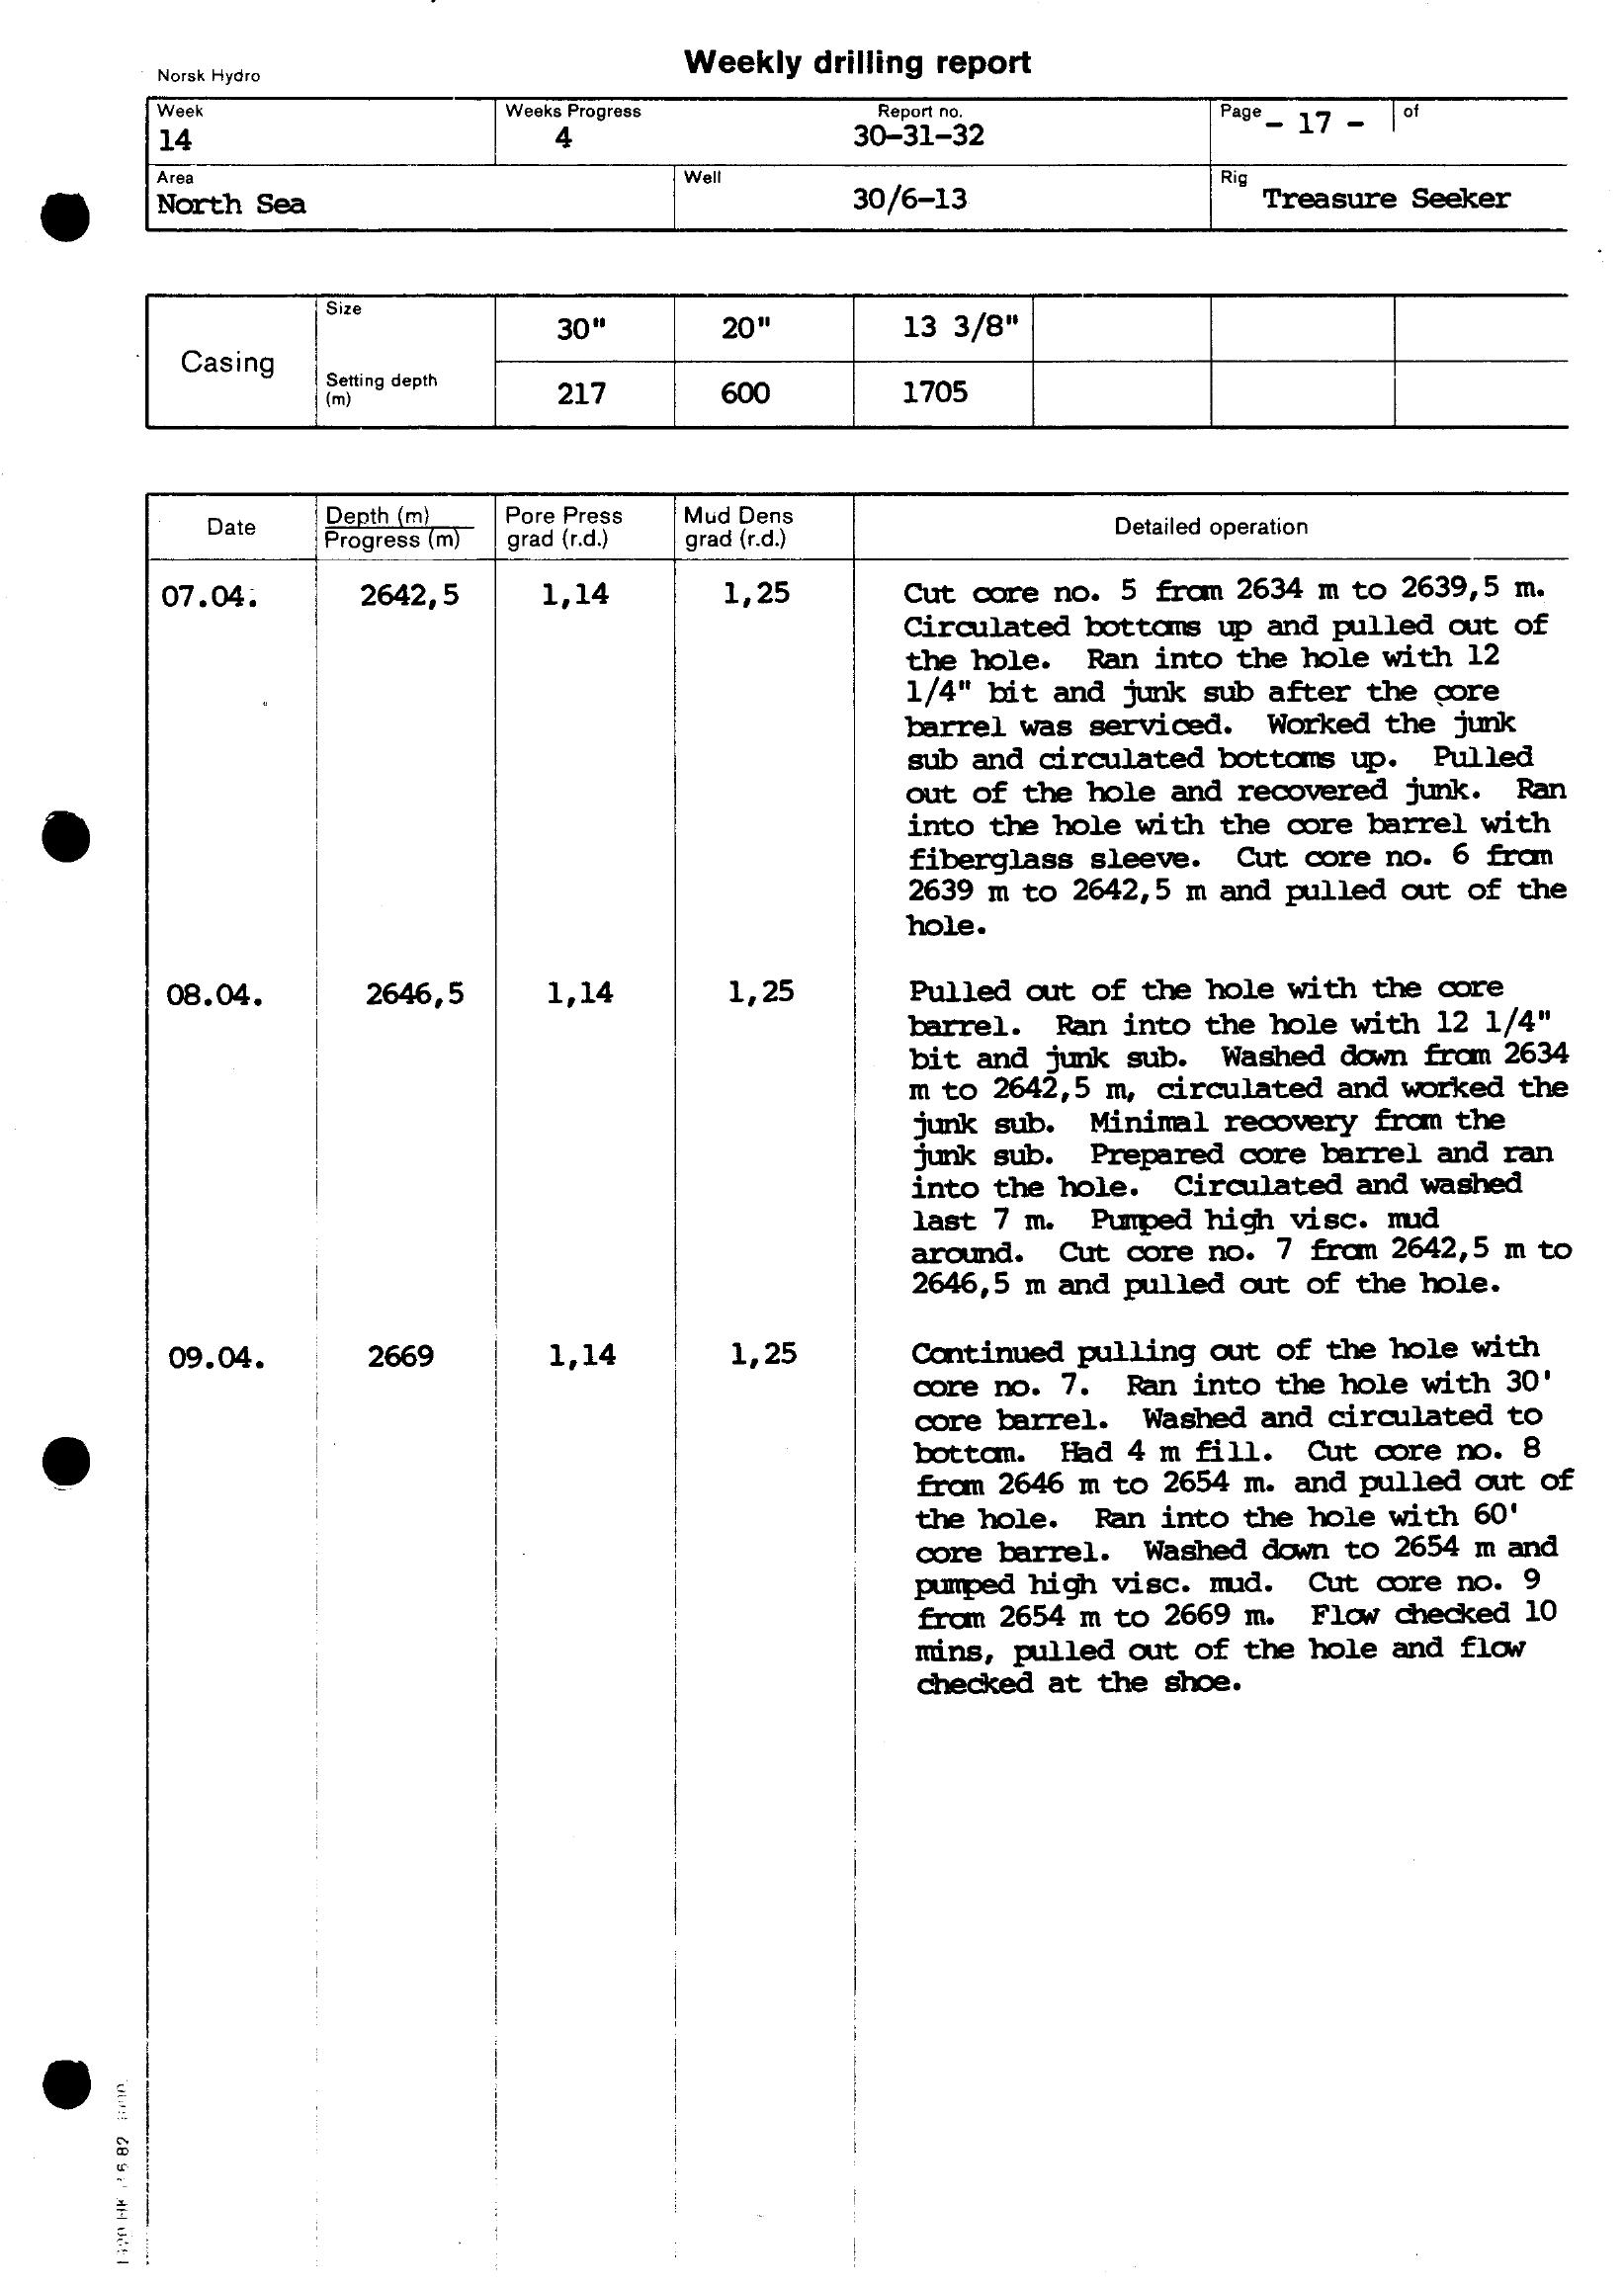graph: (125, 79, 1624, 1740)
text: (673, 39, 1051, 91)
